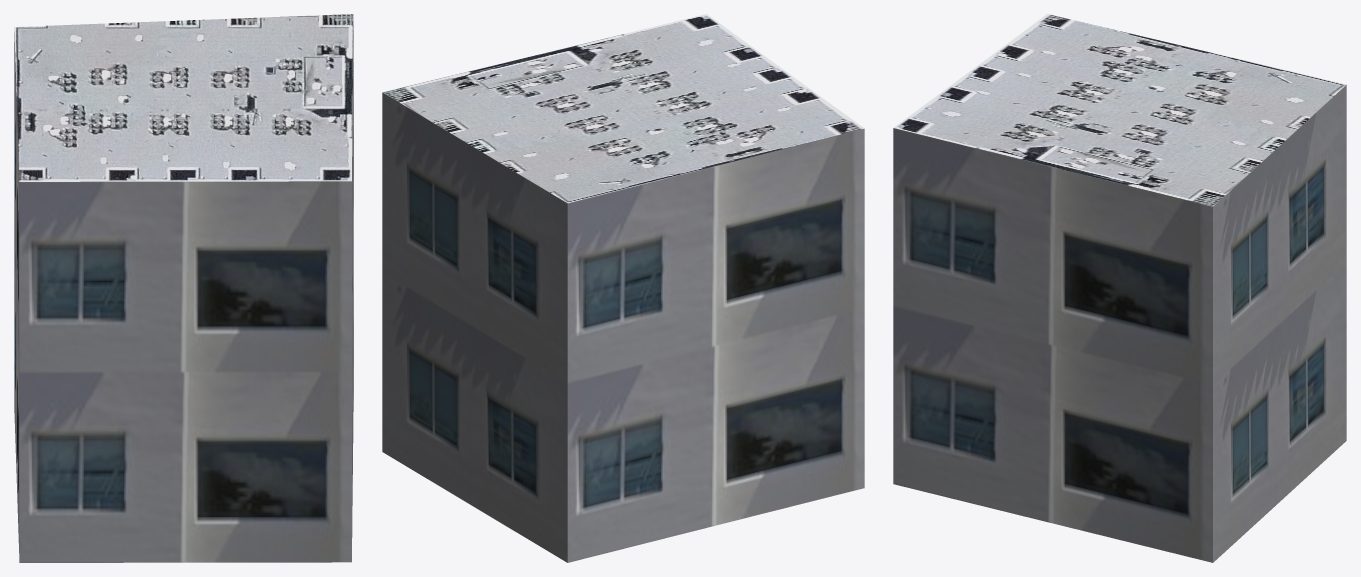
Rendered from ResTex__4074.fbx.
3 renders of one model, left to right at view 1: azimuth 30°, elevation 25°; view 2: azimuth 150°, elevation 25°; view 3: azimuth 270°, elevation 25°, orthographic. The views are drawn at different scales.
Visible parts, largest first — view 1: CityEngineMaterial_10_m, CityEngineMaterial_4_m; view 2: CityEngineMaterial_10_m, CityEngineMaterial_4_m; view 3: CityEngineMaterial_10_m, CityEngineMaterial_4_m.
Boxes of the visible parts, x1=… form: CityEngineMaterial_10_m: x1=14, y1=31, x2=353, y2=562; CityEngineMaterial_4_m: x1=14, y1=14, x2=353, y2=181; CityEngineMaterial_10_m: x1=382, y1=92, x2=864, y2=562; CityEngineMaterial_4_m: x1=383, y1=14, x2=864, y2=203; CityEngineMaterial_10_m: x1=893, y1=85, x2=1346, y2=562; CityEngineMaterial_4_m: x1=893, y1=14, x2=1346, y2=206.
Bounding box in the file's own units: 6.97 × 6 × 6.92.
2 materials, 2 textured.
